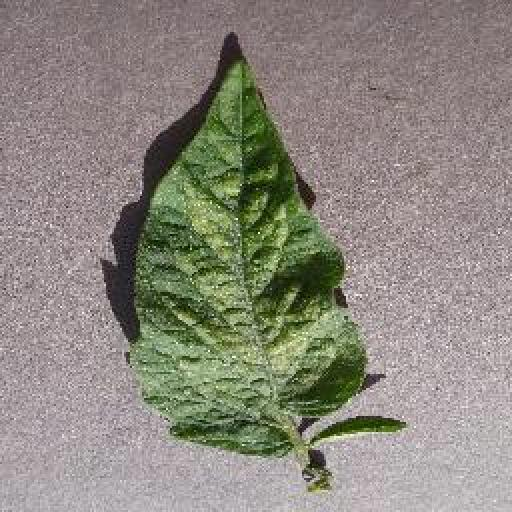disease_tomato: (126, 54, 370, 460)
